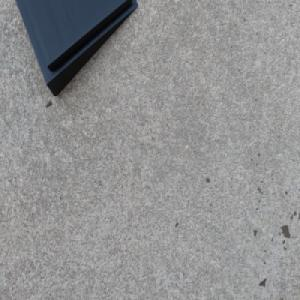PlasticPart: (13, 0, 139, 97)
